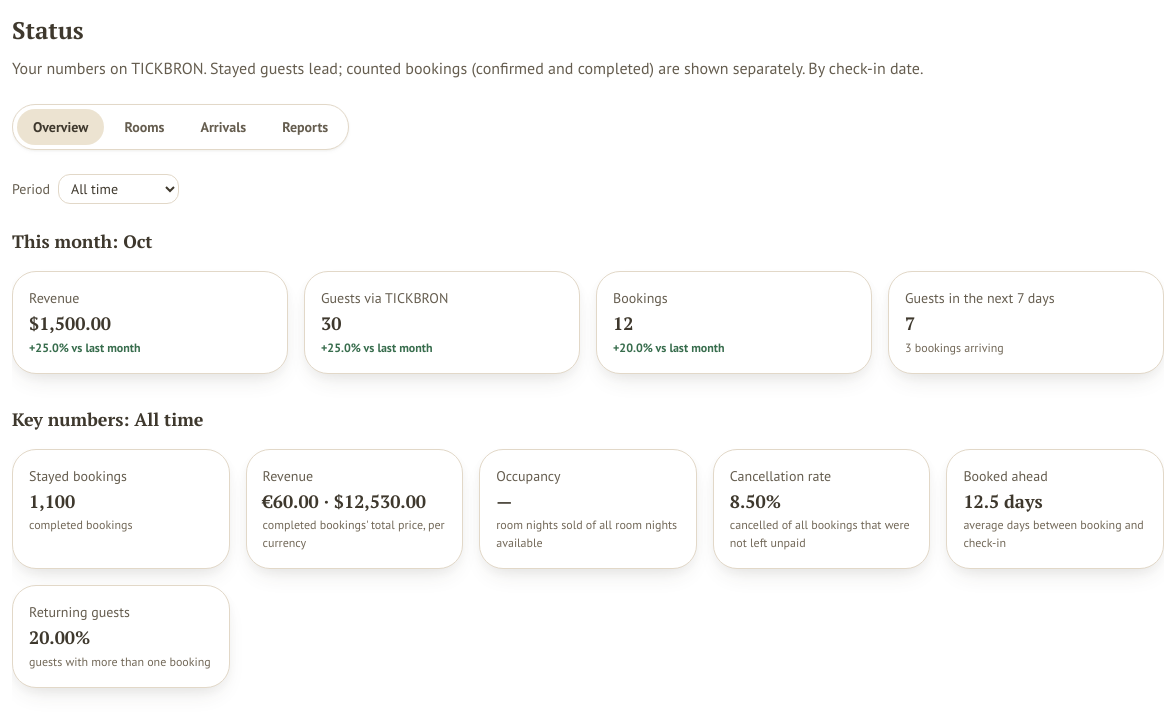
Scenario: PartnerStatusTab › R12a › lists today and tomorrow arrivals of all hotels
The image size is (1164, 721).
Click the tab "Arrivals" at (223,127), box [184,109,262,145]
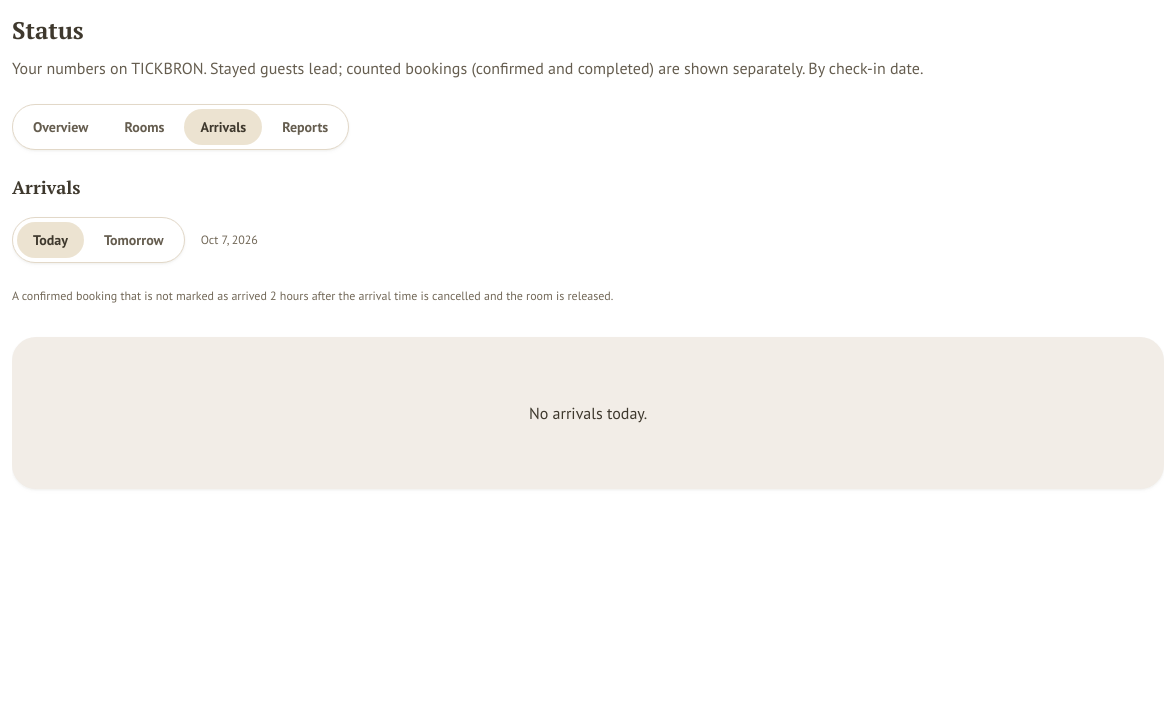
Expected: the button "Tomorrow" is shown, [88,222,180,258]
